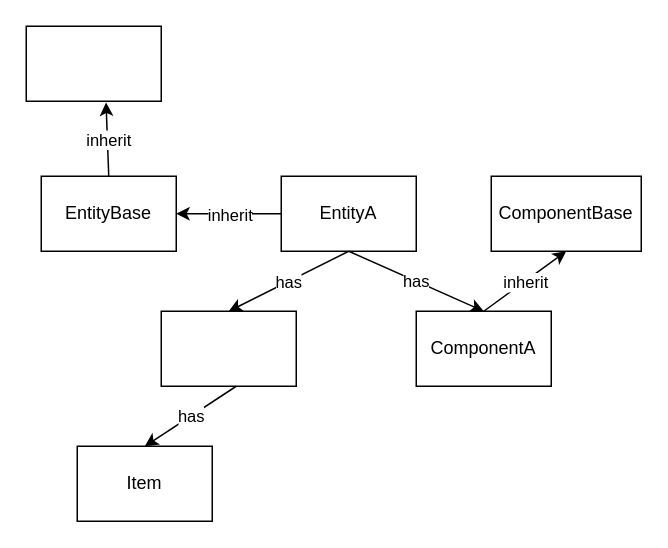
The diagram is 668 pixels wide and 548 high, and some of its shapes have lost their labels. Here are the shapes that lost their labels. From the top down, the centre of each, then its label:
[93,63]: Engine.Entity
[228,348]: Bag
